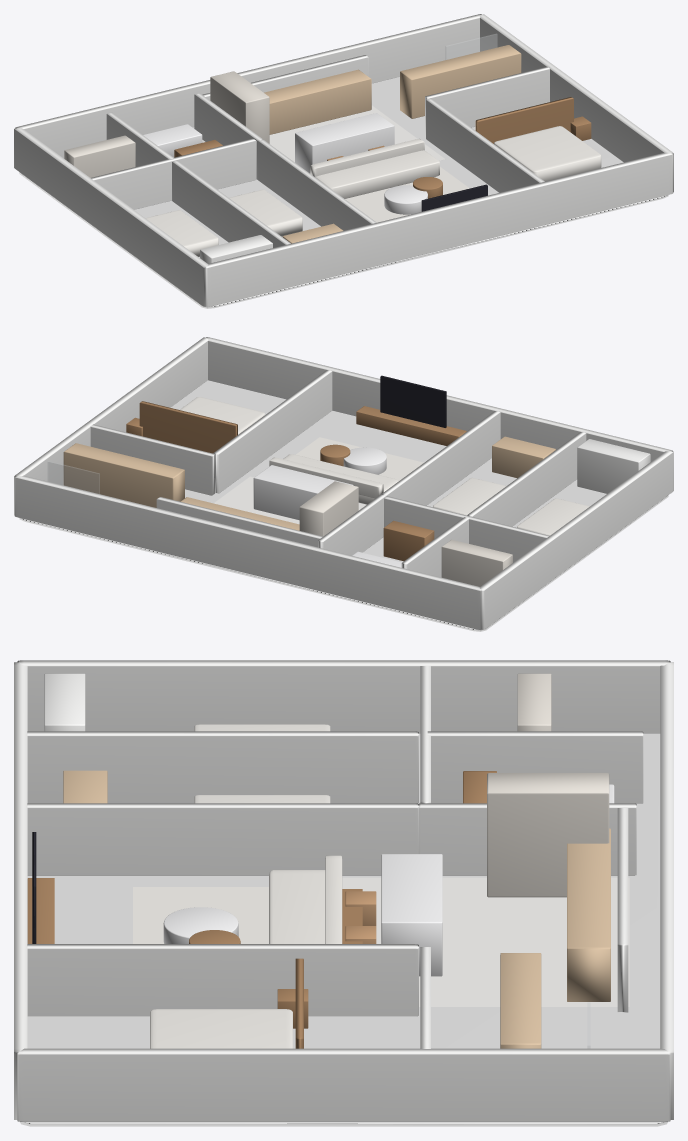
Rendered from wirye_37py.fbx.
3 views of the same model, one above another, from view 1: azimuth 30°, elevation 25°; view 2: azimuth 150°, elevation 25°; view 3: azimuth 270°, elevation 25° (orthographic). The views are drawn at different scales.
Parts seen in each view (by area): view 1: Wall_Arch_0, Wall_Arch_1, Wall_Arch_2, Floor_Main_Wood, Wall_Arch_3, Wall_Arch_7, Kitchen_Back_Counter, Wall_Arch_4, Wall_Arch_5, Master_Walkin_Closet, Wall_Arch_8, Wall_Arch_6 (+21 smaller); view 2: Wall_Arch_1, Wall_Arch_0, Floor_Main_Wood, Wall_Arch_2, Wall_Arch_3, Wall_Arch_4, Master_Walkin_Closet, Wall_Arch_5, Wall_Arch_6, Wall_Arch_7, Wall_Arch_8, Master_Bed_Headboard (+22 smaller); view 3: Wall_Arch_3, Wall_Arch_2, Floor_Main_Wood, Wall_Arch_5, Wall_Arch_4, Wall_Arch_6, Floor_Kitchen_Tile, Kitchen_Fridge_Wall, Wall_Arch_11, Kitchen_Back_Counter, Kitchen_Island, Wall_Arch_10 (+20 smaller).
Boxes of the visible parts, bbox=[...] form: Wall_Arch_0: bbox=[205, 152, 673, 306]; Wall_Arch_1: bbox=[14, 14, 481, 158]; Wall_Arch_2: bbox=[14, 128, 208, 306]; Floor_Main_Wood: bbox=[19, 77, 668, 308]; Wall_Arch_3: bbox=[480, 14, 673, 192]; Wall_Arch_7: bbox=[91, 138, 256, 209]; Kitchen_Back_Counter: bbox=[264, 69, 371, 134]; Wall_Arch_4: bbox=[426, 98, 544, 192]; Wall_Arch_5: bbox=[257, 139, 376, 230]; Master_Walkin_Closet: bbox=[400, 45, 521, 118]; Wall_Arch_8: bbox=[425, 66, 549, 135]; Wall_Arch_6: bbox=[172, 160, 290, 247]; Wall_Arch_1: bbox=[14, 475, 482, 629]; Wall_Arch_0: bbox=[206, 337, 673, 461]; Floor_Main_Wood: bbox=[19, 380, 668, 631]; Wall_Arch_2: bbox=[479, 451, 673, 629]; Wall_Arch_3: bbox=[14, 337, 208, 515]; Wall_Arch_4: bbox=[213, 370, 332, 493]; Master_Walkin_Closet: bbox=[63, 443, 184, 507]; Wall_Arch_5: bbox=[381, 411, 500, 505]; Wall_Arch_6: bbox=[467, 432, 586, 526]; Wall_Arch_7: bbox=[384, 496, 549, 562]; Wall_Arch_8: bbox=[90, 424, 215, 495]; Master_Bed_Headboard: bbox=[139, 401, 237, 453]; Wall_Arch_3: bbox=[17, 1048, 670, 1121]; Wall_Arch_2: bbox=[17, 660, 670, 733]; Floor_Main_Wood: bbox=[19, 733, 668, 1126]; Wall_Arch_5: bbox=[27, 803, 418, 875]; Wall_Arch_4: bbox=[27, 944, 418, 1016]; Wall_Arch_6: bbox=[27, 731, 418, 803]; Floor_Kitchen_Tile: bbox=[342, 877, 629, 1006]; Kitchen_Fridge_Wall: bbox=[487, 773, 609, 897]; Wall_Arch_11: bbox=[427, 731, 643, 803]; Kitchen_Back_Counter: bbox=[567, 828, 610, 1001]; Kitchen_Island: bbox=[381, 854, 442, 976]; Wall_Arch_10: bbox=[419, 803, 636, 875].
Size of the model in its own units: 13.7 by 1.8 by 9.7.
